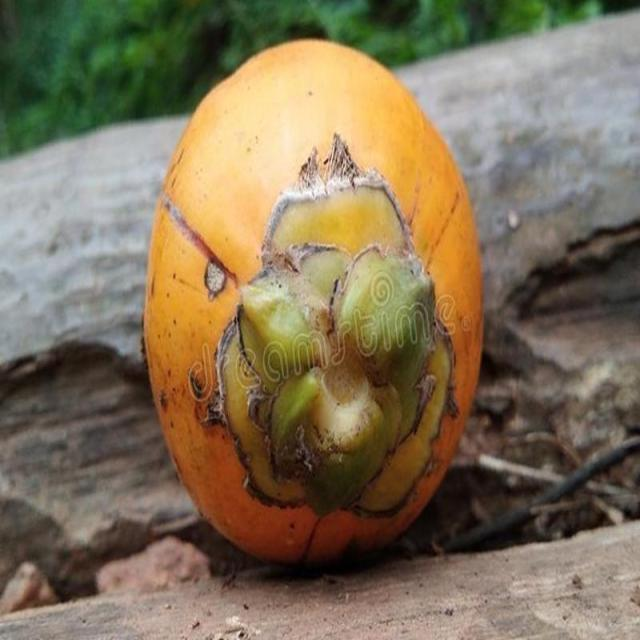good: (143, 41, 484, 573)
